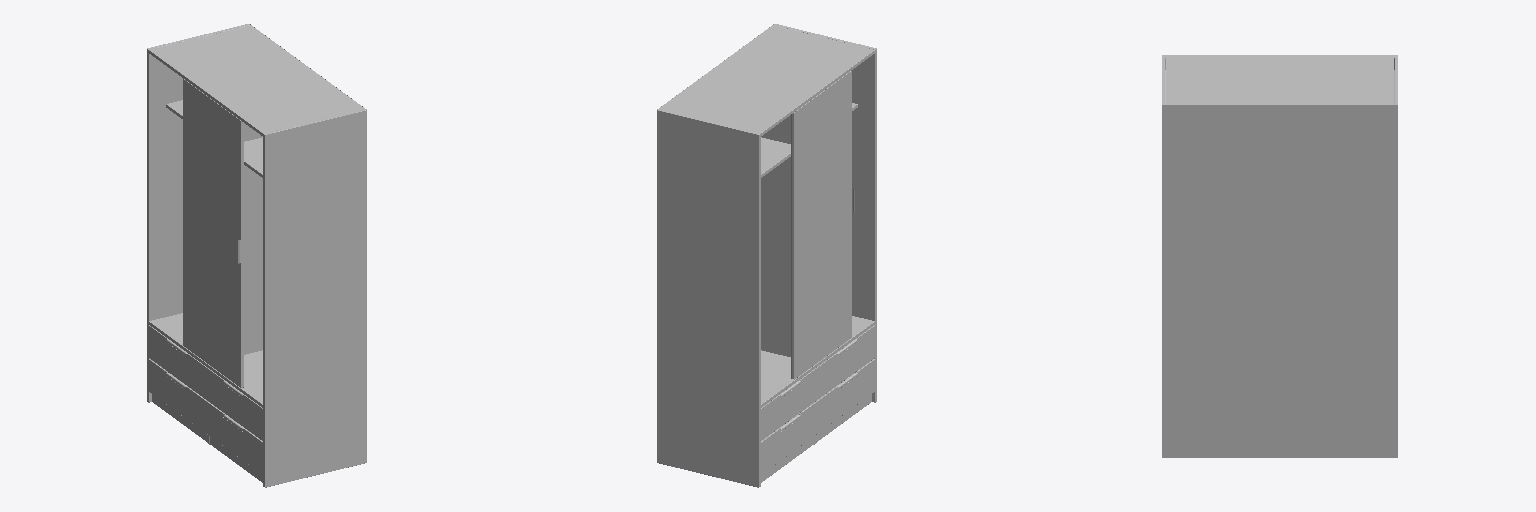
File: CABINATE_2.obj
The picture shows the model from 3 angles: view 1: azimuth 30°, elevation 25°; view 2: azimuth 150°, elevation 25°; view 3: azimuth 270°, elevation 25°; orthographic projection.
Visible parts, largest first — view 1: frame_Cube.014; view 2: frame_Cube.014; view 3: frame_Cube.014.
Boxes of the visible parts, x1,y1,x2,y2 form: frame_Cube.014: [147, 24, 366, 487]; frame_Cube.014: [657, 24, 876, 487]; frame_Cube.014: [1162, 55, 1397, 457].
Bounding box in the file's own units: 0.6233 × 2.01 × 1.22.